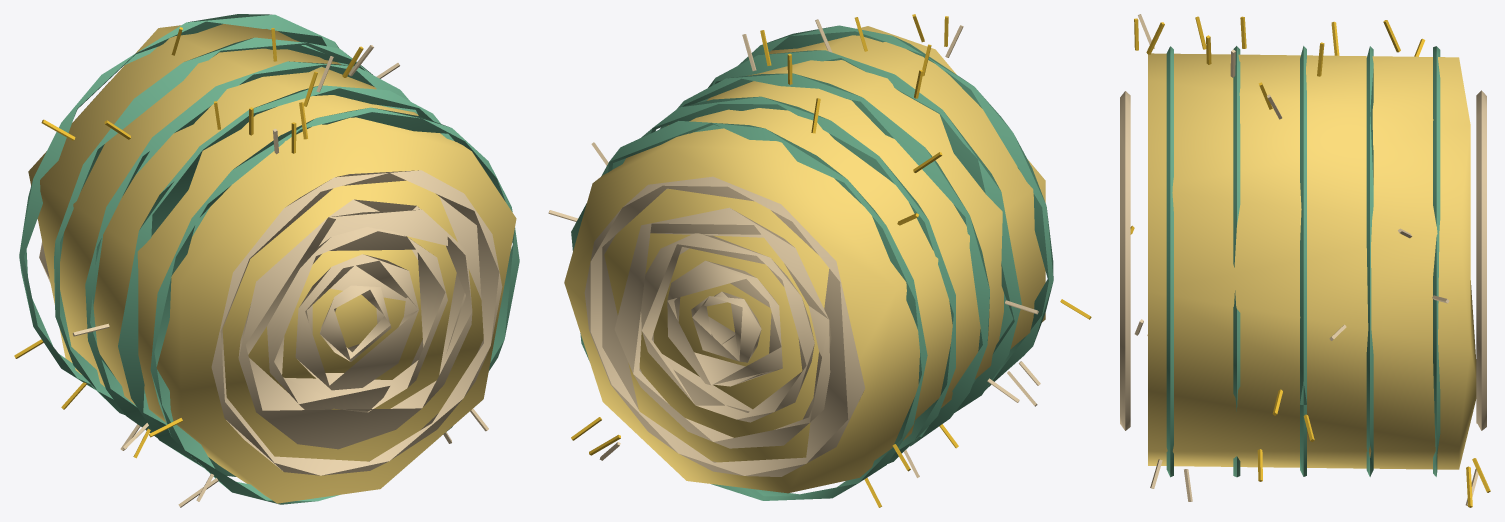
File: hay_bale.glb
3 renders of one model, left to right at view 1: azimuth 30°, elevation 25°; view 2: azimuth 150°, elevation 25°; view 3: azimuth 270°, elevation 25°, orthographic. The views are drawn at different scales.
Visible parts, largest first — view 1: hay_bale; view 2: hay_bale; view 3: hay_bale.
Boxes of the visible parts, bbox=[...] form: hay_bale: bbox=[14, 14, 519, 507]; hay_bale: bbox=[548, 14, 1091, 507]; hay_bale: bbox=[1120, 14, 1490, 507].
Size of the model in its own units: 1.7 by 1.56 by 1.25.
1 material, 1 textured.
